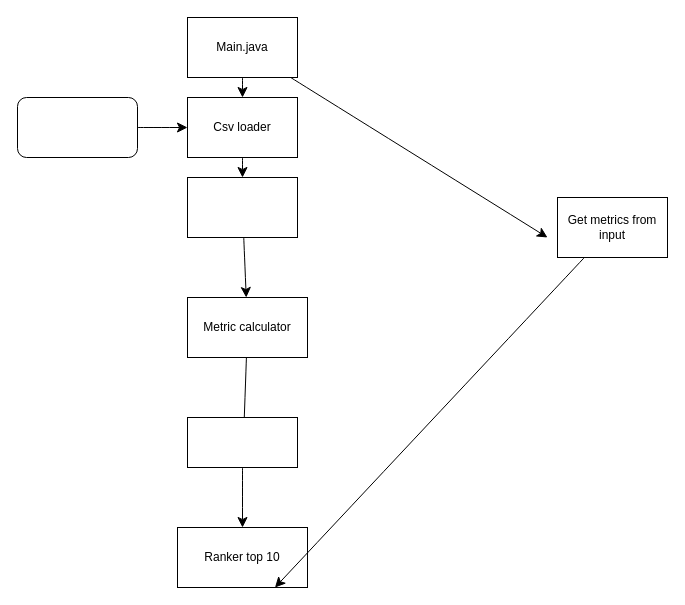
Some shapes in this 685 by 605 pixel diagram are drawn without their labels. Each missing label, with the centre of its shape:
"Apply and score" goes at (242,442).
"Group games by team" goes at (242,207).
"Initial data csv" goes at (77,127).
